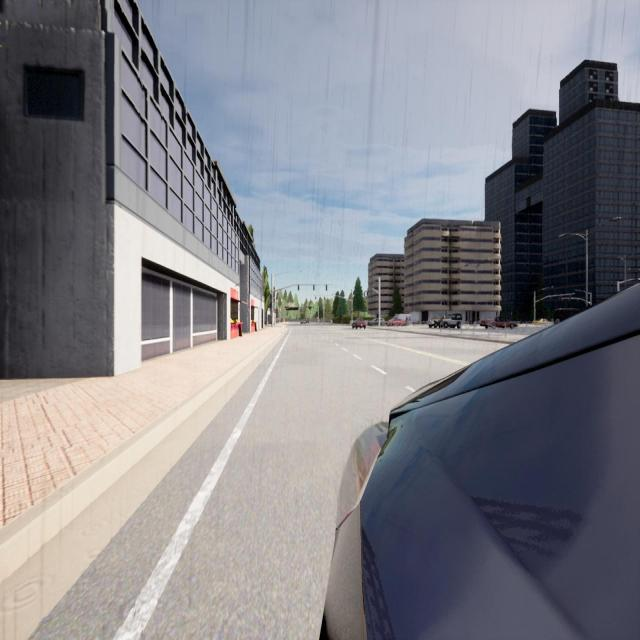Vehicle: (325, 286, 640, 640), (429, 314, 461, 328), (481, 317, 517, 329), (554, 309, 578, 323), (388, 314, 411, 325), (352, 320, 366, 329), (369, 318, 384, 326), (532, 319, 548, 324), (300, 319, 309, 326)
traffic_light: (313, 285, 315, 290), (351, 309, 353, 313), (334, 296, 336, 300), (326, 285, 327, 291), (298, 285, 299, 290), (324, 296, 325, 300), (364, 292, 365, 295), (367, 292, 368, 295), (316, 296, 316, 299)
